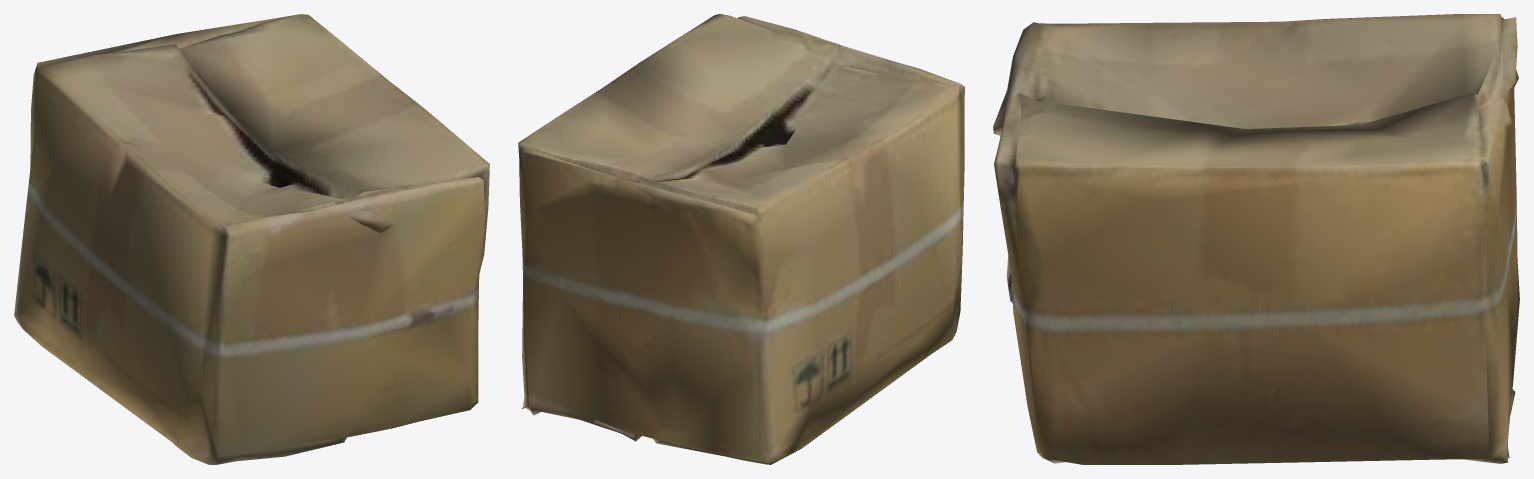
3 renders of one model, left to right at view 1: azimuth 30°, elevation 25°; view 2: azimuth 150°, elevation 25°; view 3: azimuth 270°, elevation 25°, orthographic. The views are drawn at different scales.
Parts seen in each view (by area): view 1: cardboard_box_01; view 2: cardboard_box_01; view 3: cardboard_box_01.
Boxes of the visible parts, left/top/right/bottom form: cardboard_box_01: left=14, top=14, right=489, bottom=464; cardboard_box_01: left=518, top=14, right=964, bottom=464; cardboard_box_01: left=993, top=14, right=1519, bottom=464.
Bounding box in the file's own units: 0.384 × 0.3394 × 0.5159.
Materials: 1 (1 with a texture image).
